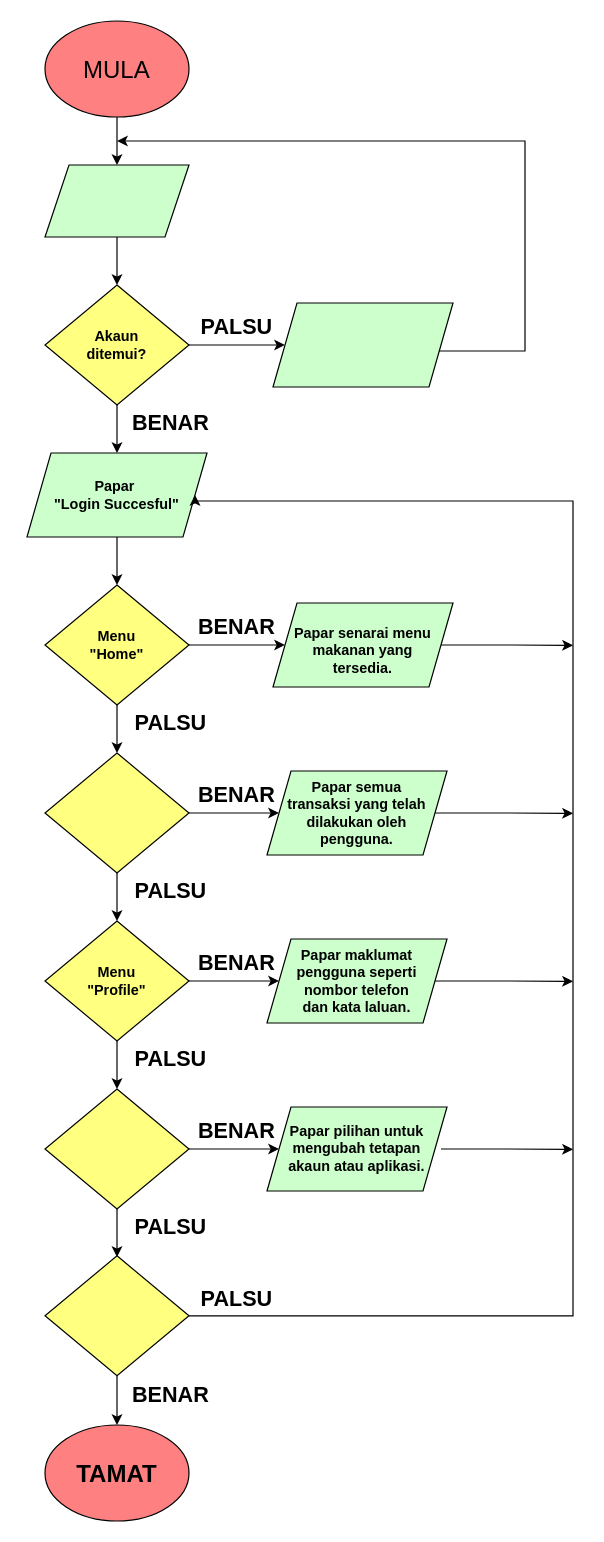
Image size: 604x1542. Some labels were removed from this diagram. Each missing label, with the centre of its shape:
INPUT nohp dan password: pixel 116 200
Menu "History": pixel 116 812
Menu "Logout": pixel 116 1315
Menu "Settings": pixel 116 1148
Papar "Login Failed": pixel 362 344
